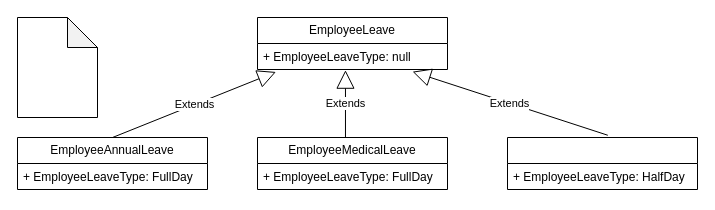
This 715x210 diagram has some shape labels left out. The shapes that lost their labels are listed below. From the top down, each one's box as (x1, y1, x2, y2) in pixels, then its label:
(16, 16, 98, 118): 这里用的是ENUM 方便统一管理
(506, 136, 698, 190): EmployeeCompensationLeave
